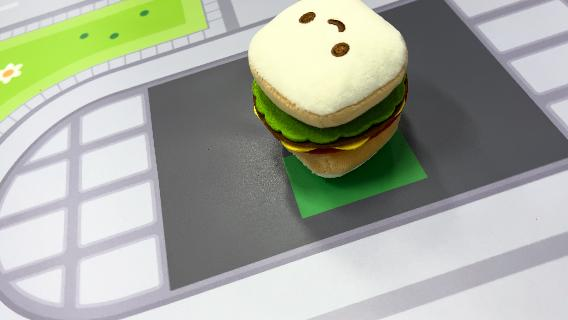sandwich: (245, 1, 412, 179)
